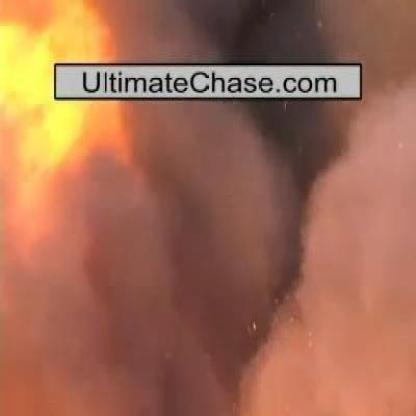-: (80, 104, 404, 385), (86, 3, 390, 62)
